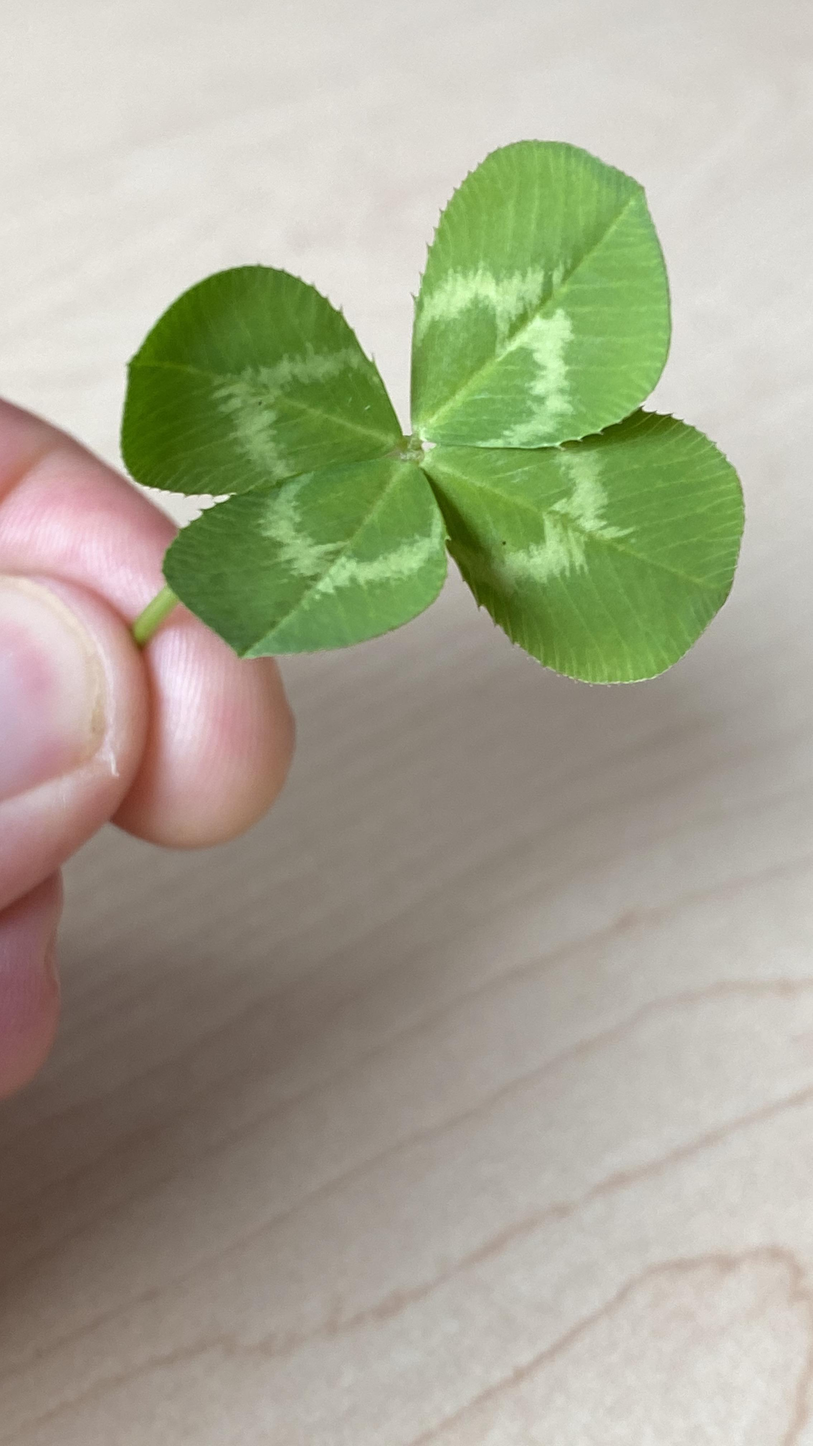4-Leaf-Clovers: (79, 115, 381, 1226)
